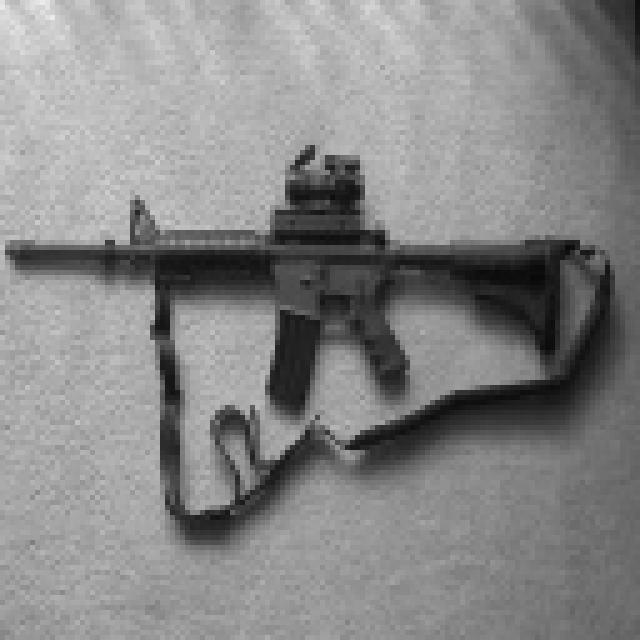Rifle: (5, 125, 640, 550)
